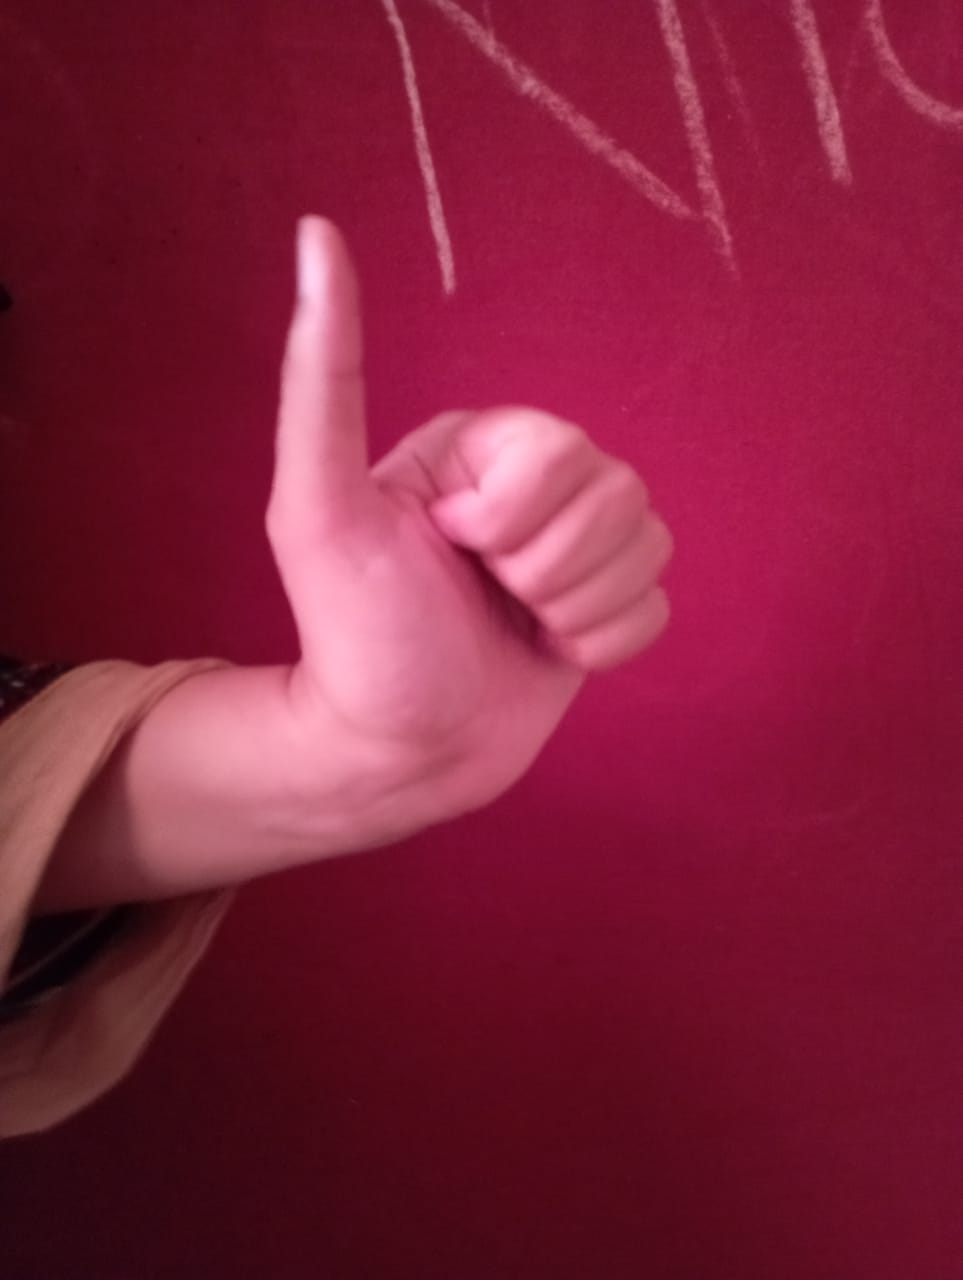I Like It: (236, 198, 689, 861)
